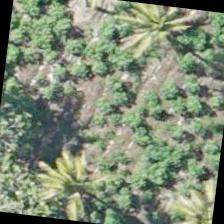Kelapa_Sawit: (18, 134, 118, 223), (97, 0, 195, 69)
